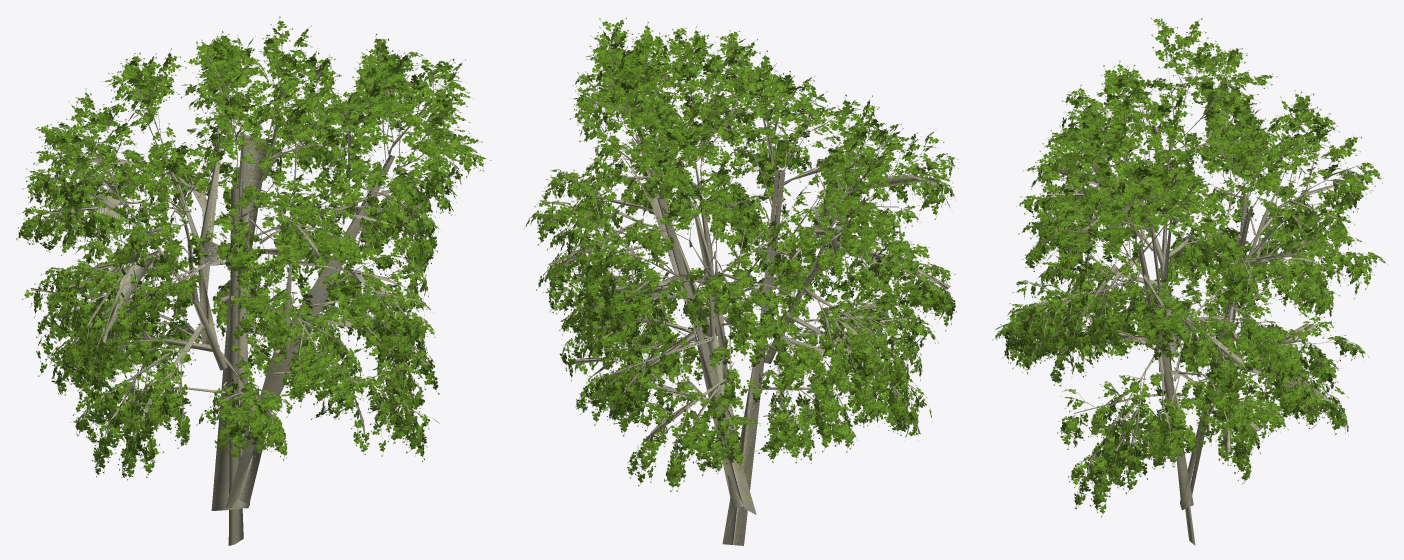
The model's file is tree_birch.glb.
The picture shows the model from 3 angles, left to right: view 1: azimuth 30°, elevation 25°; view 2: azimuth 150°, elevation 25°; view 3: azimuth 270°, elevation 25°; orthographic projection. The views are drawn at different scales.
Visible parts, largest first — view 1: leaves, tree; view 2: leaves, tree; view 3: leaves, tree.
Part boxes in pixels (x1,y1,x2,y2): leaves: (16, 16, 491, 480); tree: (21, 32, 470, 545); leaves: (524, 17, 958, 491); tree: (530, 27, 952, 545); leaves: (992, 18, 1388, 517); tree: (1001, 23, 1378, 545).
Size of the model in its own units: 12.13 by 13.61 by 10.58.
2 materials, 2 textured.
